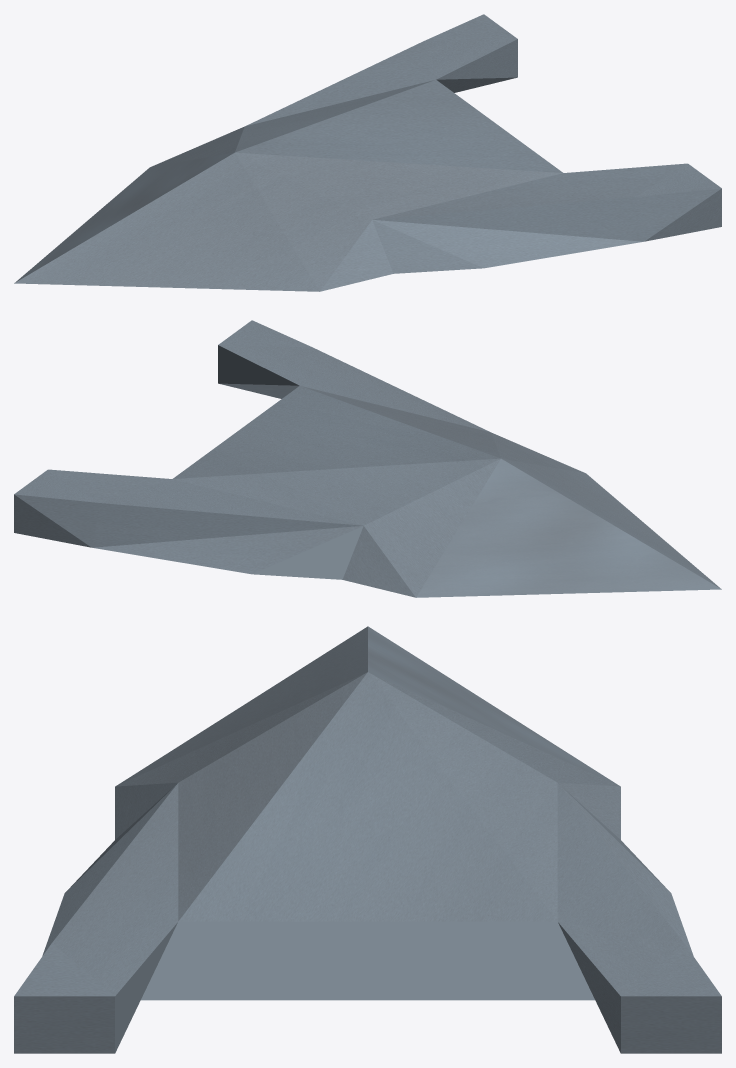
The model's file is spaceship.obj.
The picture shows the model from 3 angles, top to bottom: view 1: azimuth 30°, elevation 25°; view 2: azimuth 150°, elevation 25°; view 3: azimuth 270°, elevation 25°; orthographic projection. The views are drawn at different scales.
Visible parts, largest first — view 1: Plane; view 2: Plane; view 3: Plane.
Boxes of the visible parts, x1,y1,x2,y2 form: Plane: (14,14,721,291); Plane: (14,320,721,597); Plane: (14,626,721,1053).
Size of the model in its own units: 8 by 1 by 5.6.
